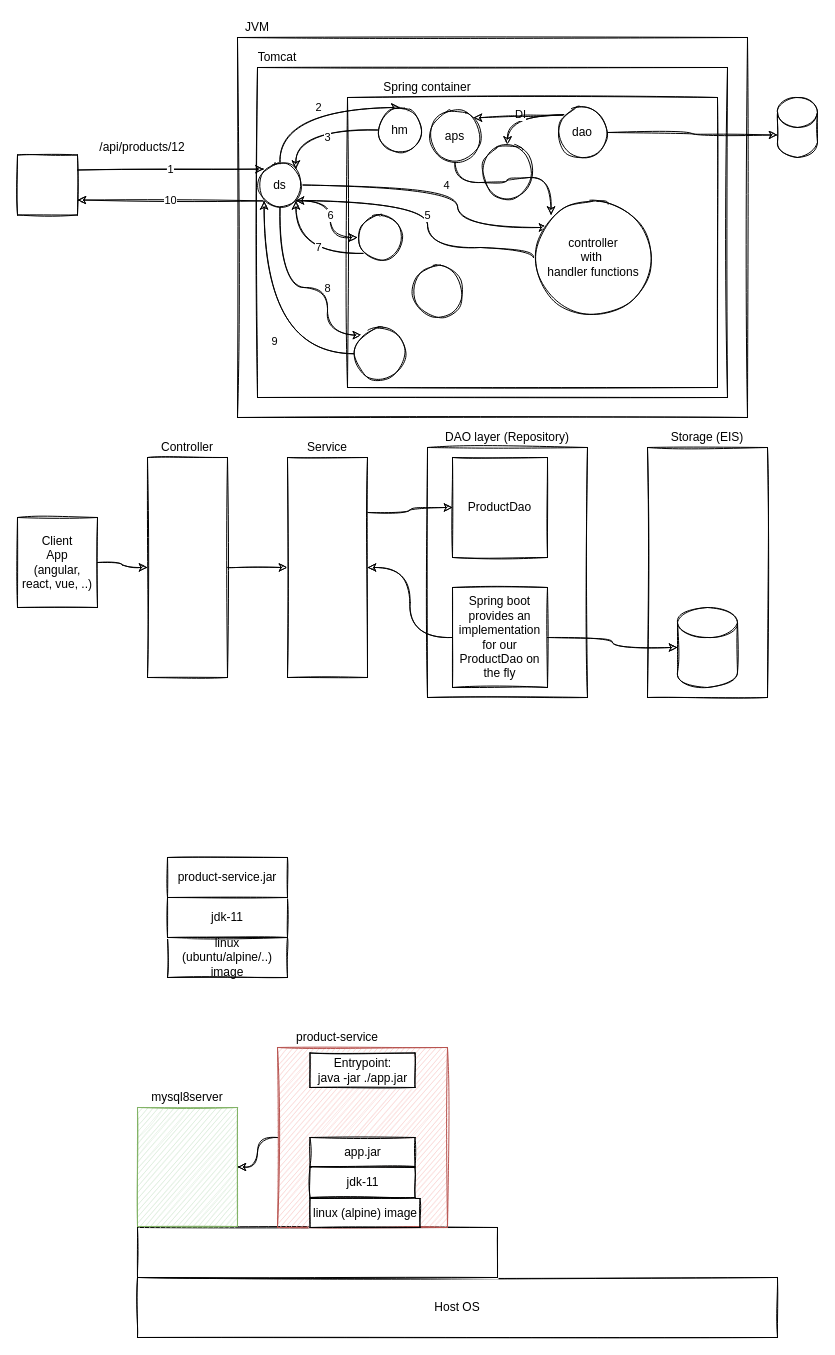
The diagram is 835 pixels wide and 1355 high, and some of its shapes have lost their labels. Here are the shapes that lost their labels. From the top down, the centre of each, then its label:
At point (47, 184): "client".
At point (507, 171): "dps".
At point (379, 237): "vr".
At point (437, 291): "jackson".
At point (379, 353): "jaxb/ moxy".
At point (187, 567): "Controller (Handles incoming requests and provides responses)".
At point (327, 567): "Service (business logic is done here)".
At point (317, 1252): "Docker engine (linux kernel)".
